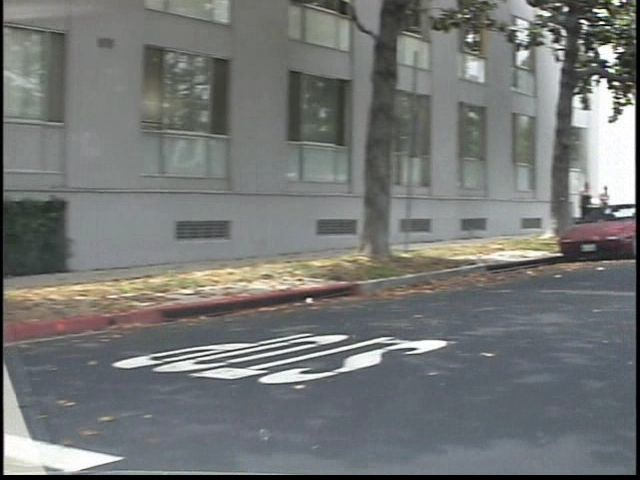person: (590, 176, 612, 237)
